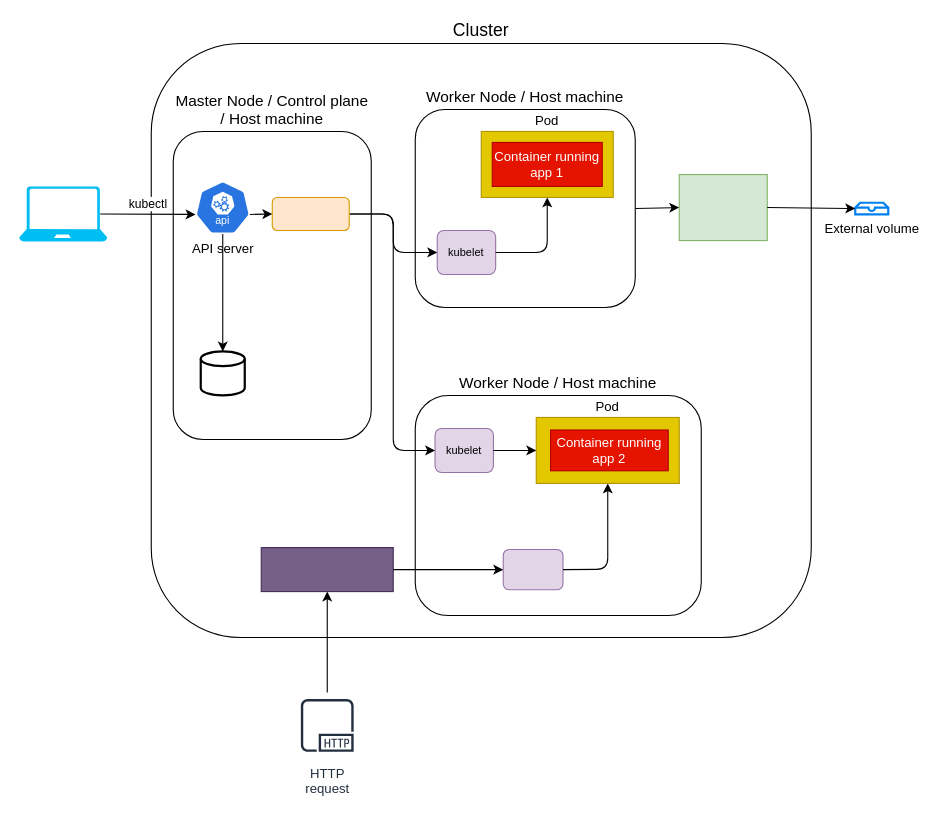
The diagram is 937 pixels wide and 816 high, and some of its shapes have lost their labels. The centre of each missing label's shape, as x and y in pixels:
"etcd" goes at (x=222, y=373).
"kube-proxy" goes at (x=532, y=569).
"Own computer" goes at (x=63, y=213).
"Persistent volume claim" goes at (x=722, y=207).
"Scheduler" goes at (x=310, y=213).
"Service" goes at (x=326, y=569).
